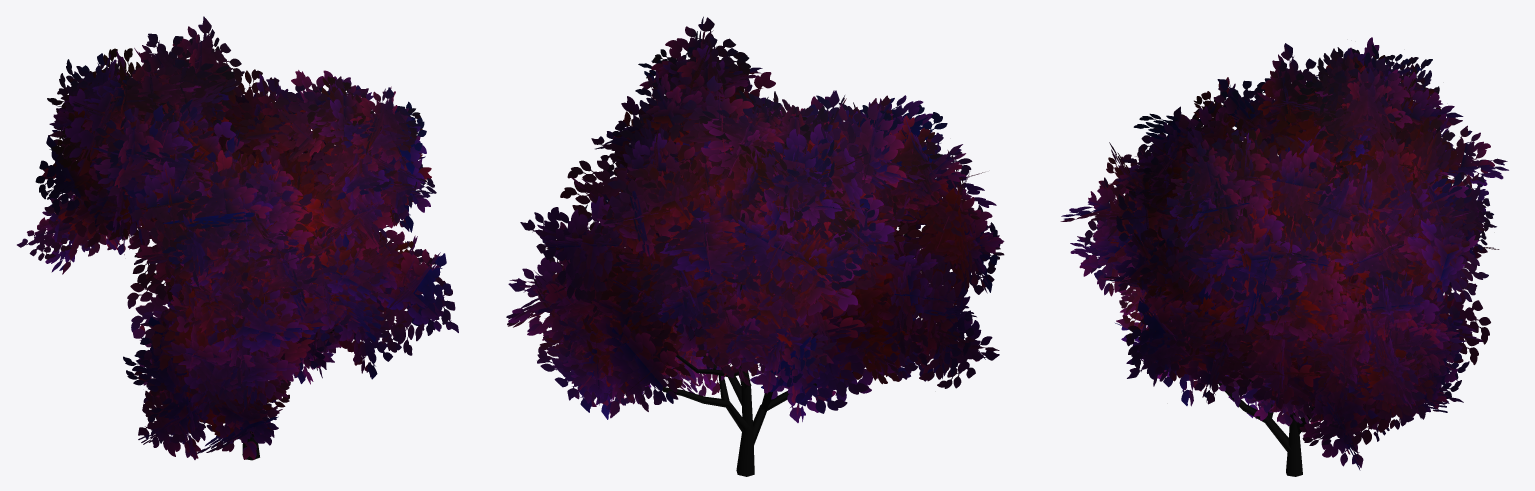
File: test-tree5.glb
3 renders of one model, left to right at view 1: azimuth 30°, elevation 25°; view 2: azimuth 150°, elevation 25°; view 3: azimuth 270°, elevation 25°, orthographic. The views are drawn at different scales.
Visible parts, largest first — view 1: trunk.001; view 2: trunk.001; view 3: trunk.001.
Boxes of the visible parts, x1,y1,x2,y2 form: trunk.001: [17, 16, 458, 460]; trunk.001: [506, 16, 1004, 476]; trunk.001: [1060, 37, 1508, 476].
Bounding box in the file's own units: 39.97 × 43.56 × 45.22.
1 material, 1 textured.
